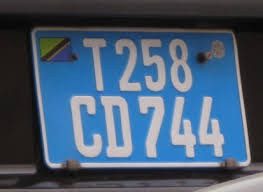T: (79, 34, 111, 93)
